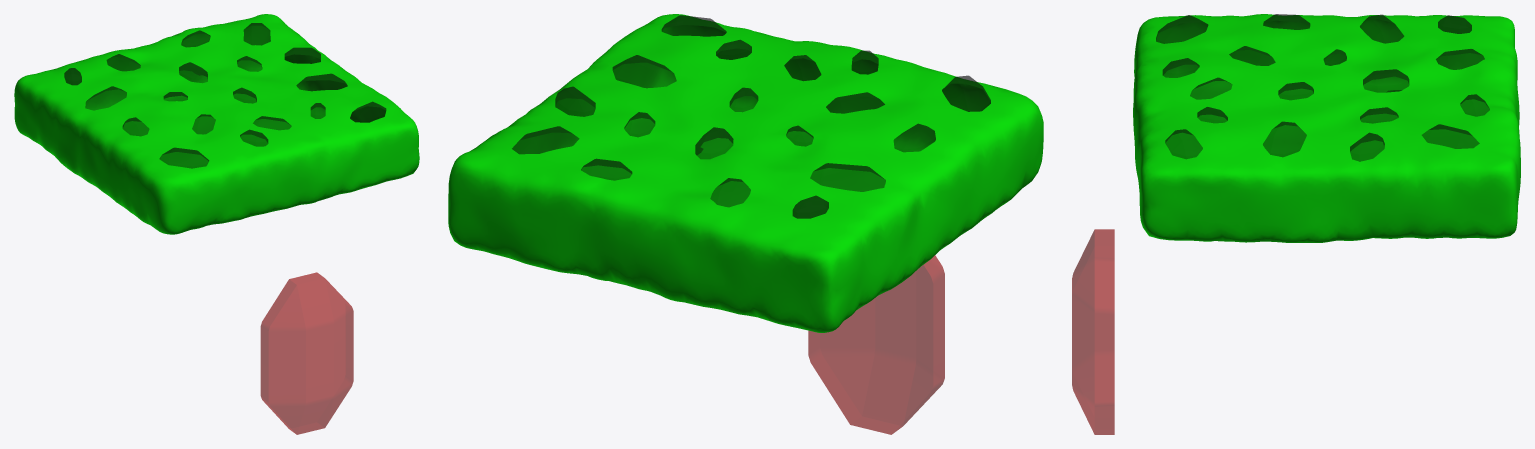
Rendered from Pressure_Plate.fbx.
3 views of the same model, side by side, from view 1: azimuth 30°, elevation 25°; view 2: azimuth 150°, elevation 25°; view 3: azimuth 270°, elevation 25° (orthographic). The views are drawn at different scales.
Parts seen in each view (by area): view 1: polySurface2, pCube3; view 2: polySurface2, pCube3; view 3: polySurface2, pCube3.
Part boxes in pixels (x1,y1,x2,y2): polySurface2: (14,14,419,234); pCube3: (260,272,353,434); polySurface2: (448,14,1043,332); pCube3: (808,255,944,434); polySurface2: (1133,14,1520,242); pCube3: (1072,229,1114,434).
Bounding box in the file's own units: 11.7 × 11.87 × 13.67.
